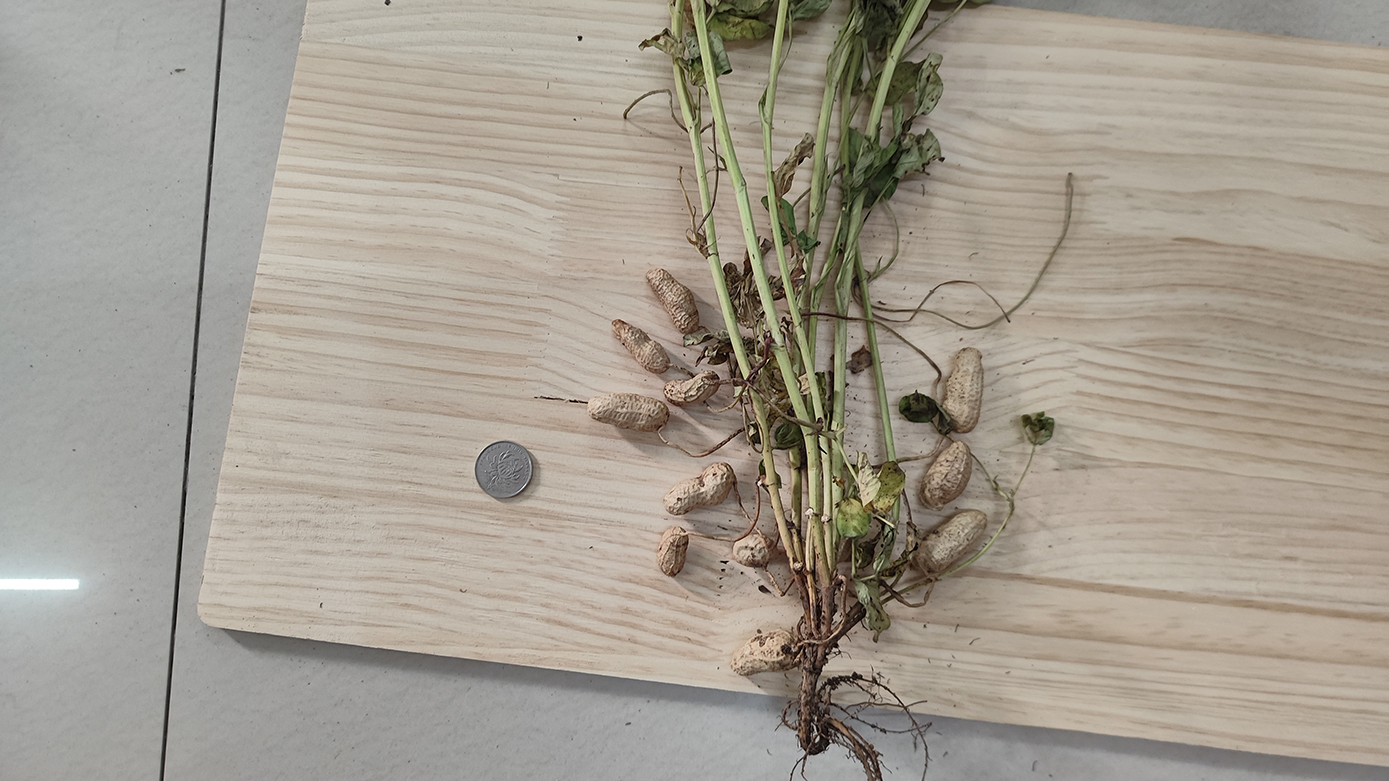h: (915, 510, 986, 575), (665, 462, 737, 515), (918, 440, 972, 508), (940, 348, 983, 431), (586, 392, 670, 434), (646, 269, 699, 333), (611, 318, 670, 374), (729, 631, 795, 677), (655, 526, 691, 574), (664, 372, 719, 402), (733, 534, 774, 567)
